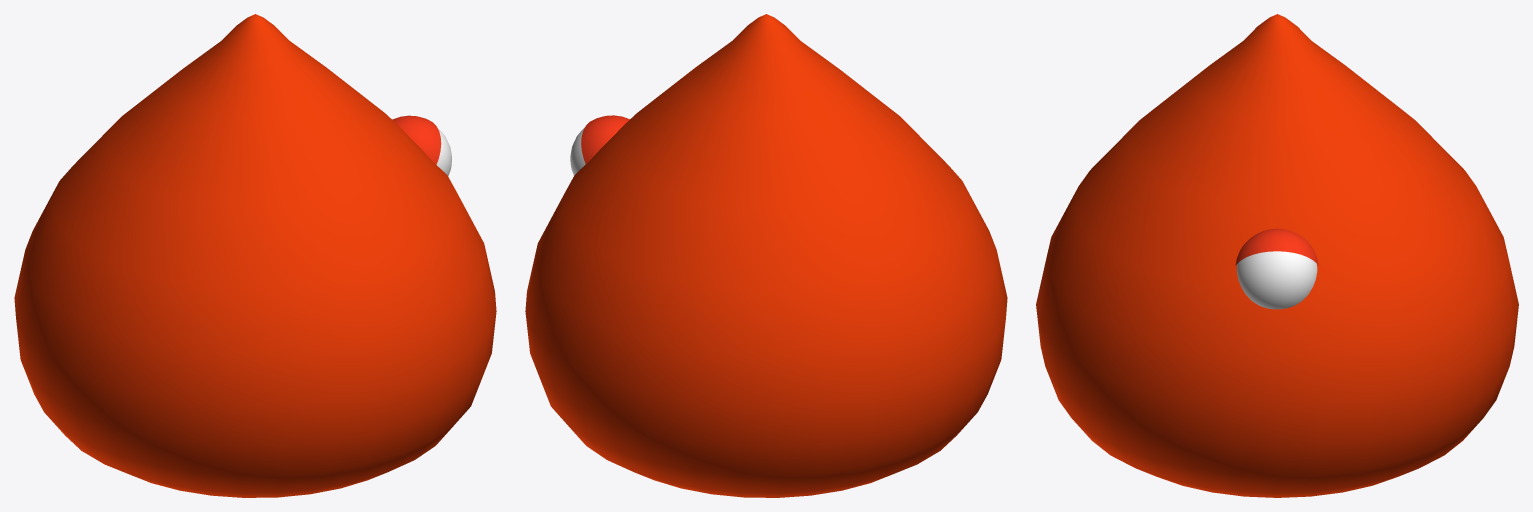
File: LimoSeparado.fbx
The picture shows the model from 3 angles, left to right: view 1: azimuth 30°, elevation 25°; view 2: azimuth 150°, elevation 25°; view 3: azimuth 270°, elevation 25°; orthographic projection.
Parts seen in each view (by area): view 1: Base001, Object001; view 2: Base001, Object001; view 3: Base001, Object002, Object001.
Part boxes in pixels (bbox=[...]): Base001: bbox=[14, 14, 496, 497]; Object001: bbox=[392, 115, 441, 164]; Base001: bbox=[525, 14, 1007, 497]; Object001: bbox=[581, 115, 629, 164]; Base001: bbox=[1036, 14, 1518, 497]; Object002: bbox=[1236, 251, 1317, 309]; Object001: bbox=[1235, 228, 1318, 265].
Size of the model in its own units: 30 by 29.1 by 30.
